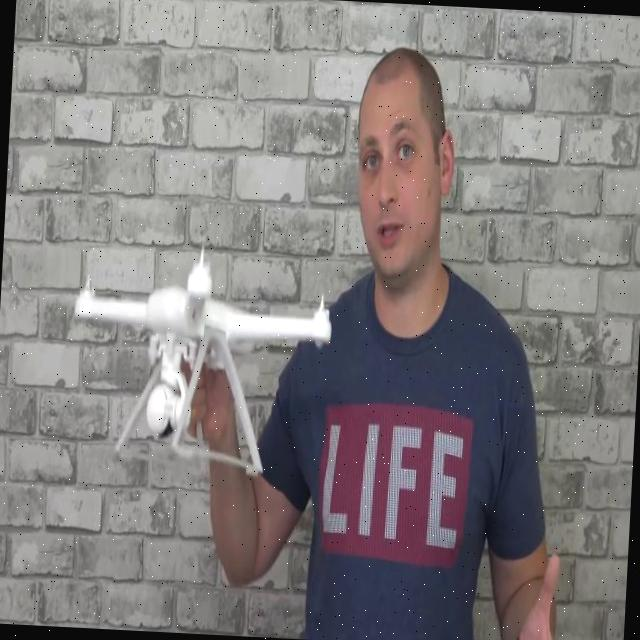drone: (58, 248, 341, 420)
